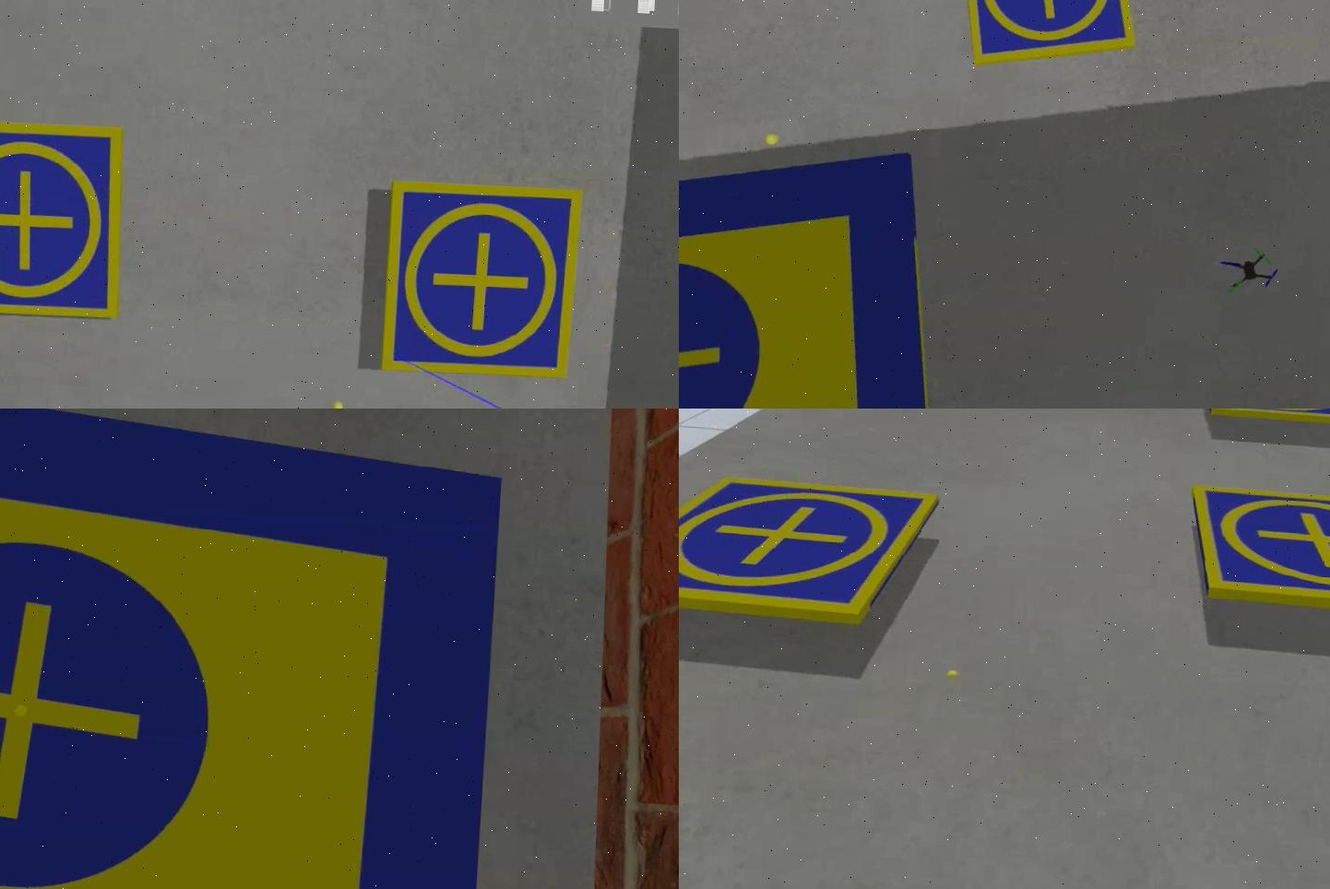large_base: (0, 409, 511, 889), (678, 123, 956, 409)
small_base: (374, 175, 587, 385), (678, 465, 942, 634), (0, 113, 130, 326), (1179, 487, 1328, 617), (947, 1, 1143, 82), (1193, 409, 1328, 432)
